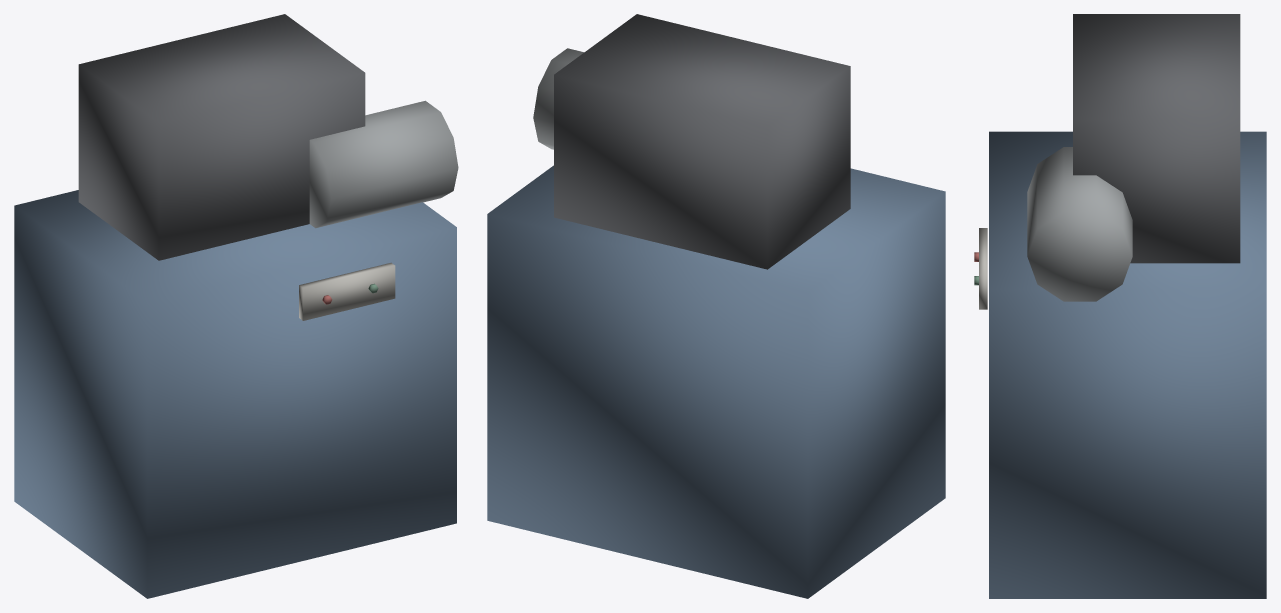
File: library_cart__reinforced.glb
3 renders of one model, left to right at view 1: azimuth 30°, elevation 25°; view 2: azimuth 150°, elevation 25°; view 3: azimuth 270°, elevation 25°, orthographic. The views are drawn at different scales.
Parts seen in each view (by area): view 1: world; view 2: world; view 3: world.
Boxes of the visible parts, x1,y1,x2,y2 form: world: (14, 14, 458, 598); world: (487, 14, 945, 598); world: (974, 14, 1266, 598).
Bounding box in the file's own units: 0.8549 × 1.08 × 0.6293.
